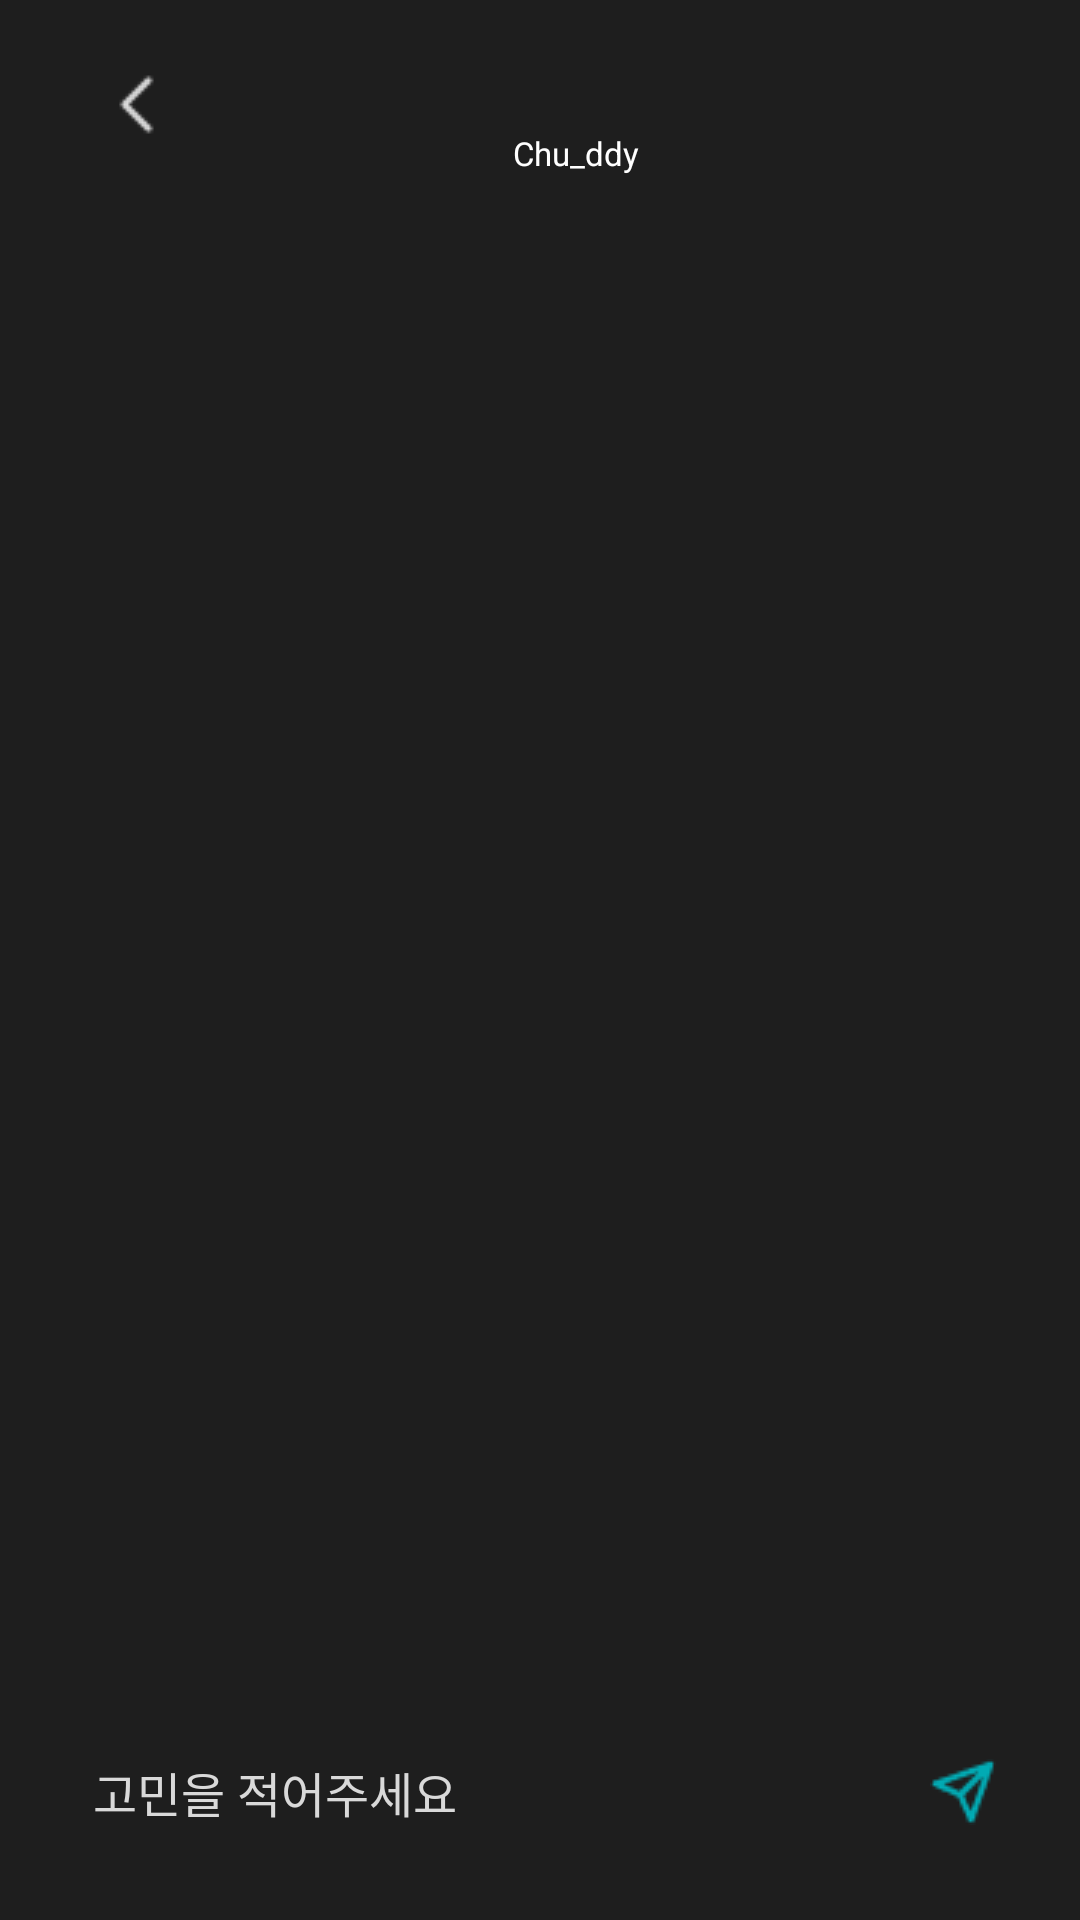

Where to tap for icons on this 1080w x 1920h app screen, as (x,y):
back: (136,104)
send: (963,1792)
